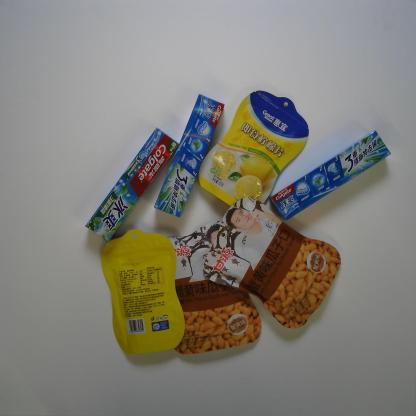Dried Fruit: (202, 196, 342, 330), (198, 89, 310, 208), (168, 220, 262, 356), (101, 228, 186, 355)
Personal Hygiene: (269, 130, 392, 220), (85, 127, 180, 243), (154, 93, 226, 219)
